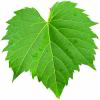grape leaf: (0, 1, 98, 100)
